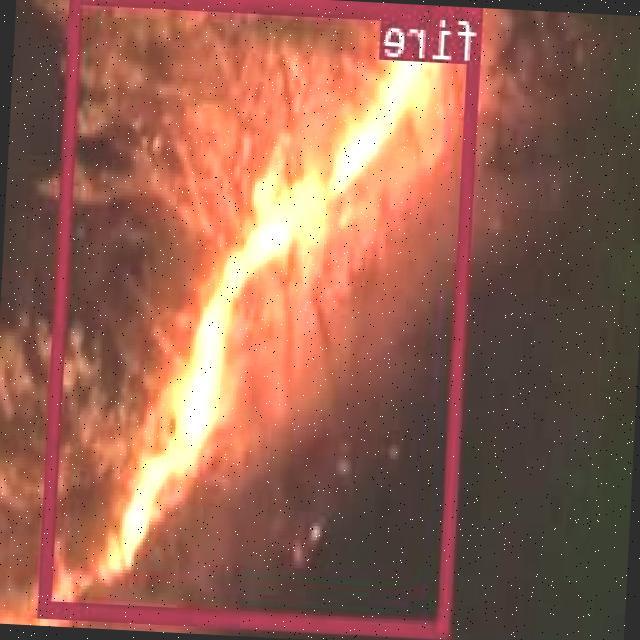fire: (42, 0, 484, 636)
